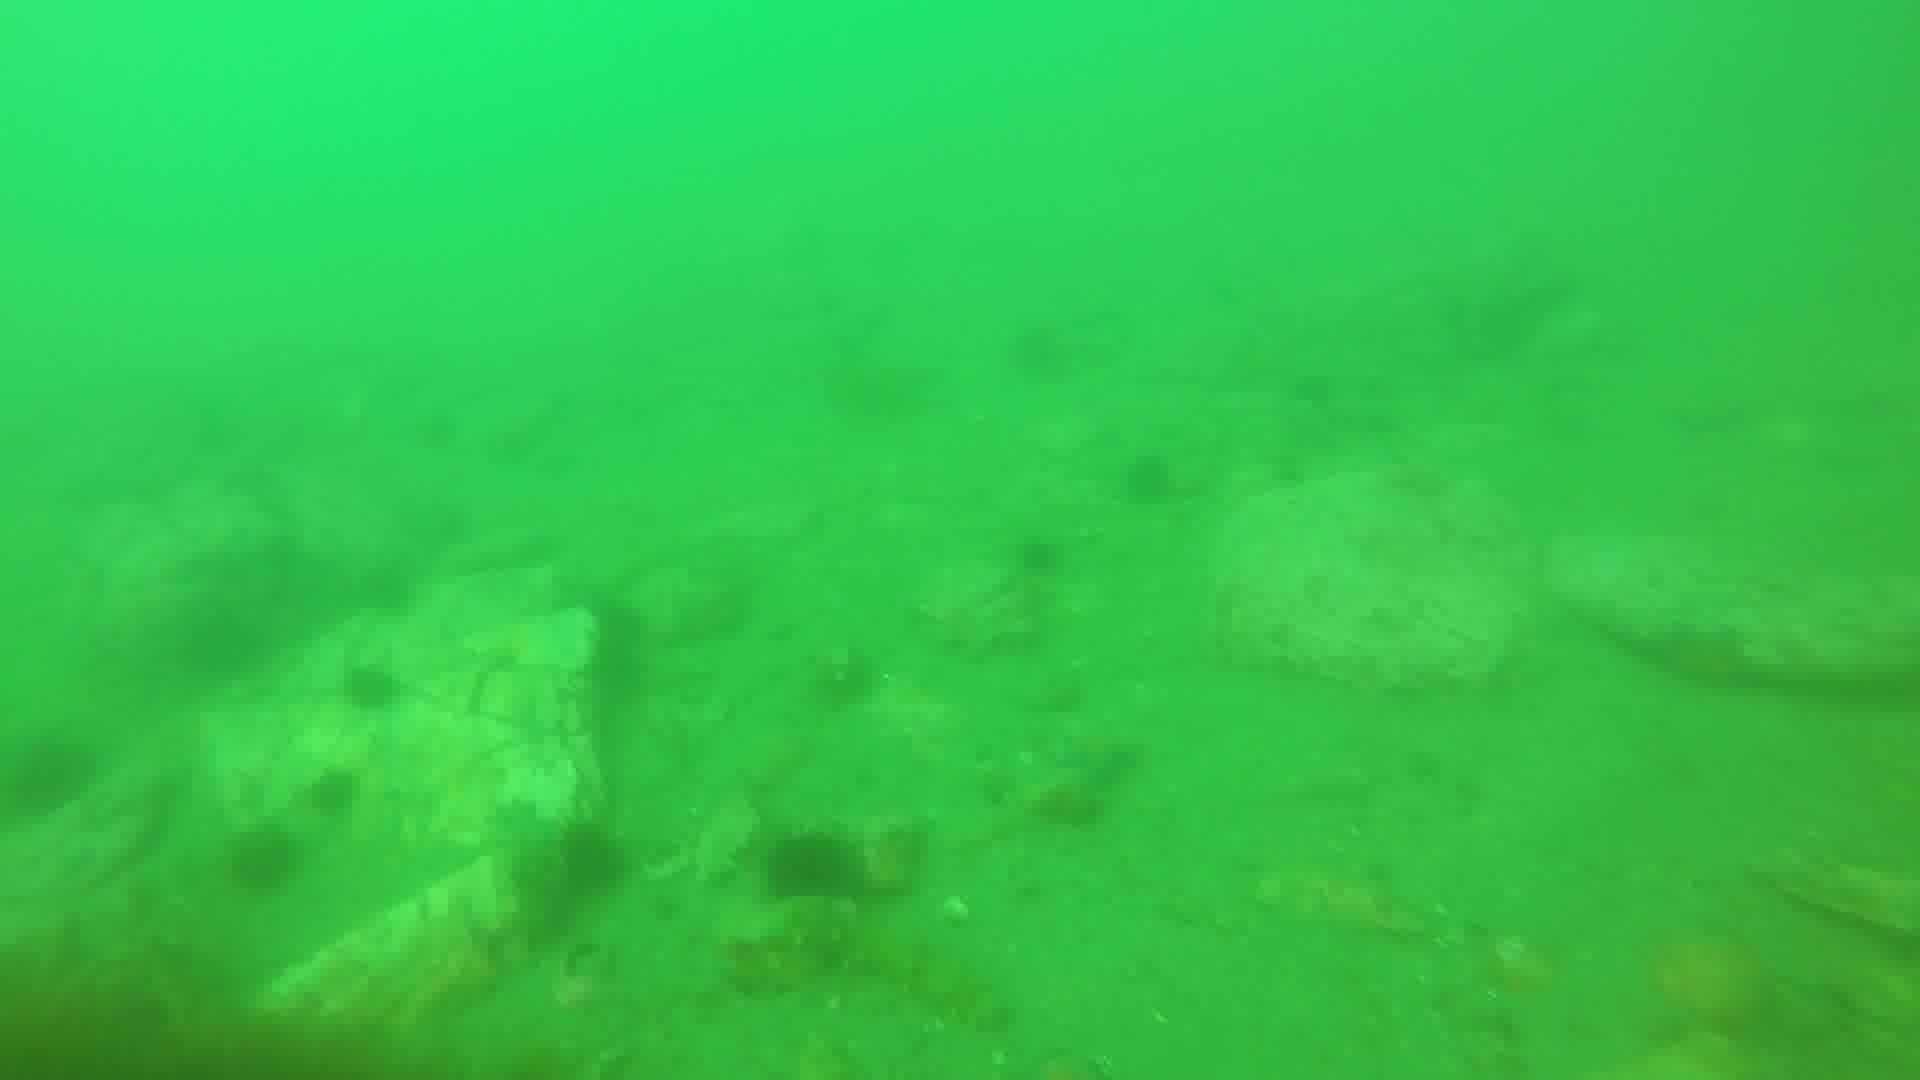echinus: (4, 729, 102, 823), (758, 827, 865, 910), (550, 818, 633, 899), (223, 820, 305, 898), (356, 558, 423, 621), (336, 657, 406, 717), (301, 764, 367, 824), (1116, 448, 1182, 509), (1000, 318, 1065, 378), (1007, 530, 1069, 583)
holothurian: (727, 902, 1011, 1031)
starfish: (1046, 717, 1145, 789)
